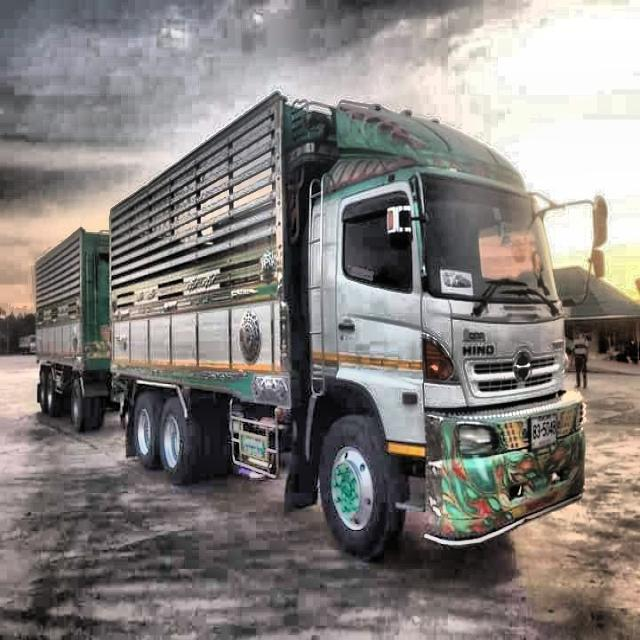trailer: (24, 89, 592, 559)
